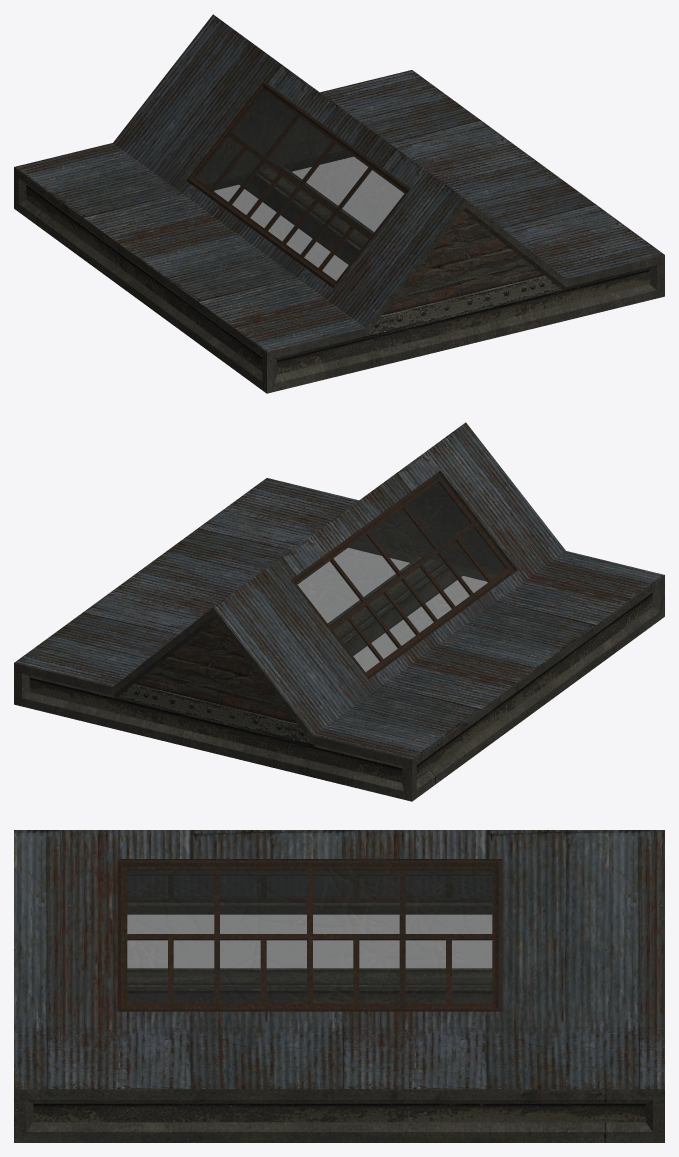
The model's file is roof_bx_1_side.obj.
3 renders of one model, top to bottom at view 1: azimuth 30°, elevation 25°; view 2: azimuth 150°, elevation 25°; view 3: azimuth 270°, elevation 25°, orthographic. The views are drawn at different scales.
Visible parts, largest first — view 1: roof_bx_1_side; view 2: roof_bx_1_side; view 3: roof_bx_1_side.
Boxes of the visible parts, x1=… form: roof_bx_1_side: x1=14, y1=14, x2=664, y2=393; roof_bx_1_side: x1=14, y1=422, x2=664, y2=801; roof_bx_1_side: x1=14, y1=830, x2=664, y2=1142.
Size of the model in its own units: 4 by 1.4 by 4.4.
